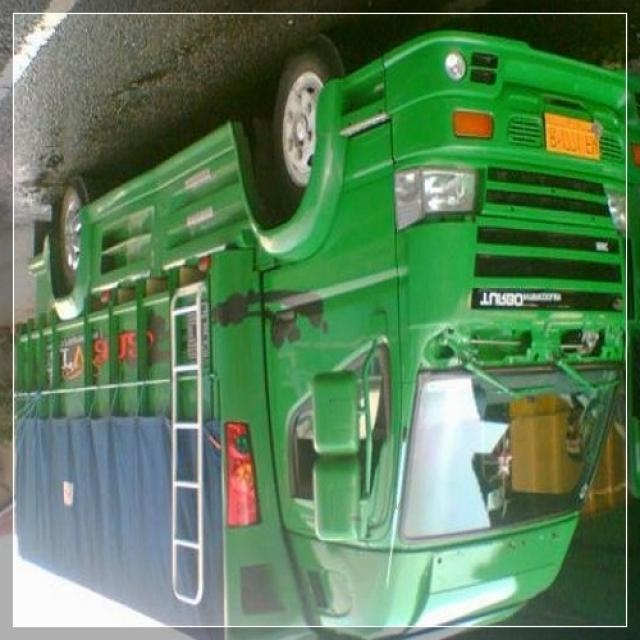Truck: (11, 28, 638, 640)
